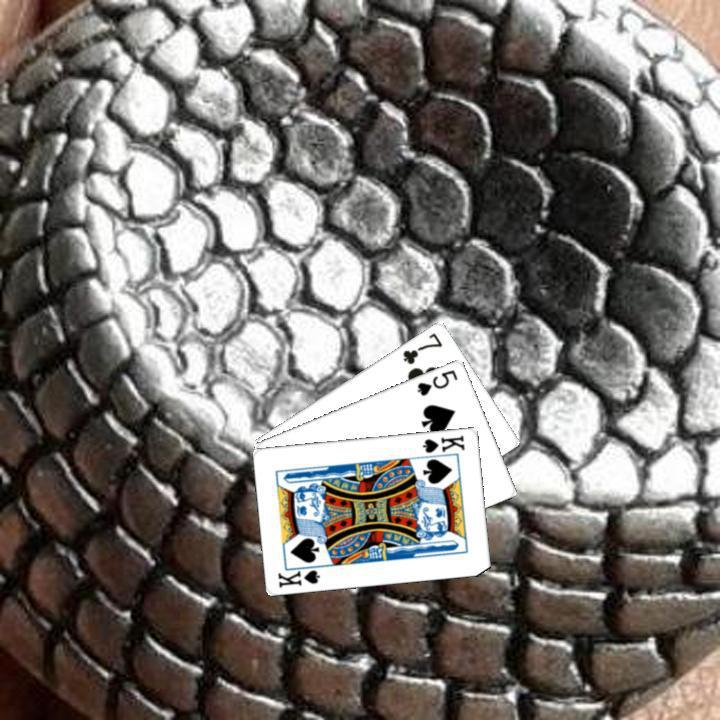5: (413, 365, 460, 398)
7: (398, 328, 444, 366)
K: (274, 560, 325, 589), (418, 430, 467, 454)
